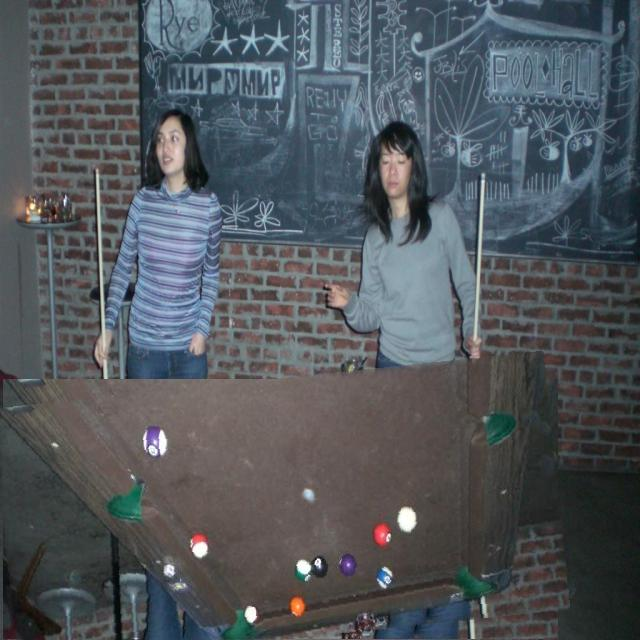Ball: (148, 571, 178, 609), (395, 470, 414, 501), (184, 469, 204, 495), (370, 457, 388, 485), (333, 434, 351, 459), (280, 400, 296, 426), (368, 418, 386, 441), (306, 434, 321, 460), (290, 433, 304, 459), (233, 396, 249, 417)
Billiard table: (0, 365, 564, 640)
